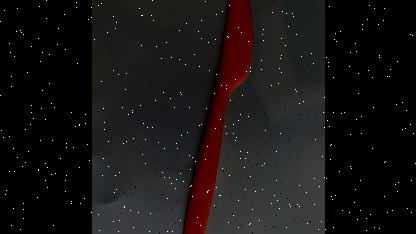Others: (176, 0, 256, 234)
